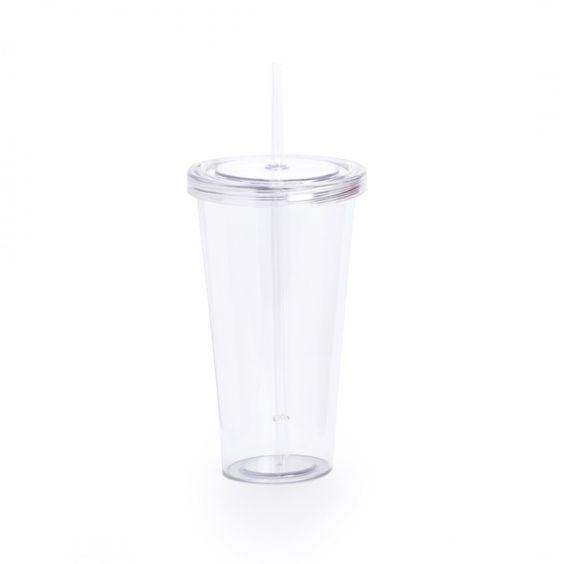PS: (192, 150, 368, 490)
